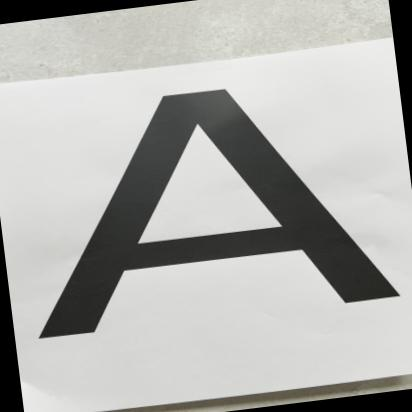seat: (0, 55, 412, 369)
